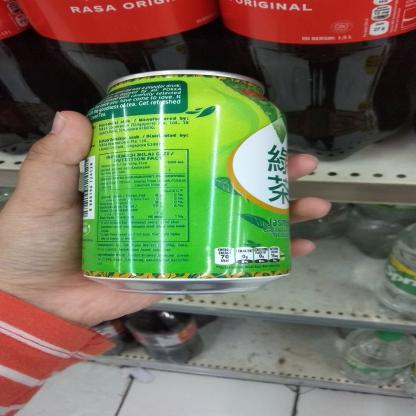bottle: (67, 68, 300, 297)
